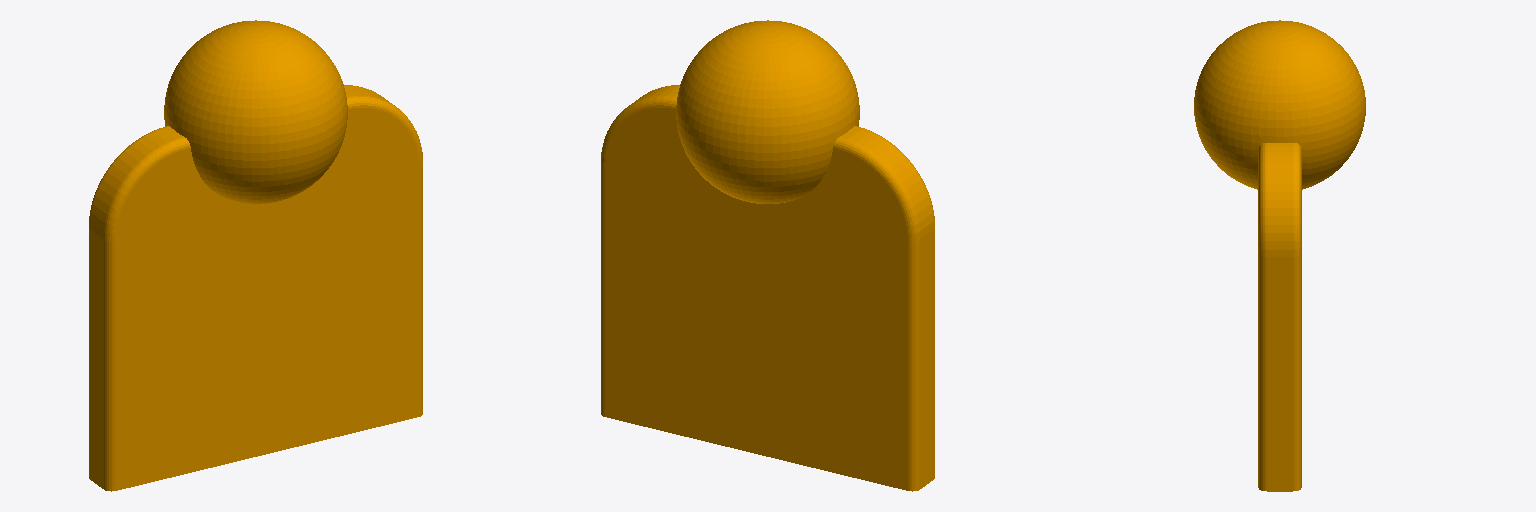
URDF robot description (benchmark_part_10):
<robot name="benchmark_part_10">
  <link name="base_link">
    <visual>
      <geometry>
        <mesh filename="benchmark_parts_stl/benchmark_part_10.stl" scale="0.001 0.001 0.001" />
      </geometry>
    <origin xyz="0.40499999422776256 -1.3259230284498316e-09 -0.05208909565677426" rpy="0 0 0" /></visual>
    <collision>
      <geometry>
        <mesh filename="benchmark_parts_stl/benchmark_part_10_vhacd.obj" scale="0.01 0.01 0.01" />
      </geometry>
    <origin xyz="0.40499999422776256 -1.3259230284498316e-09 -0.05208909565677426" rpy="0 0 0" /></collision>
    <inertial>
      <mass value="0.1" />
      <inertia ixx="0.001" ixy="0.0" ixz="0.0" iyy="0.001" iyz="0.0" izz="0.001" />
    </inertial>
  </link>
</robot>

--- Render facts (derived) ---
The picture shows the robot from 3 angles, left to right: view 1: azimuth 30°, elevation 25°; view 2: azimuth 150°, elevation 25°; view 3: azimuth 270°, elevation 25°; orthographic projection.
Model benchmark_part_10 with 1 links and 0 joints (none), rooted at base_link, posed every joint at zero.
Links seen in each view (by area): view 1: base_link; view 2: base_link; view 3: base_link.
Link boxes in pixels (<box>): base_link: <box>89,20,422,491</box>; base_link: <box>601,20,934,491</box>; base_link: <box>1194,20,1365,491</box>.
Bounding box of the posed robot: 0.08 × 0.04 × 0.1 m (x, y, z).
1 mesh visuals loaded from 1 distinct referenced files (1 binary STL).